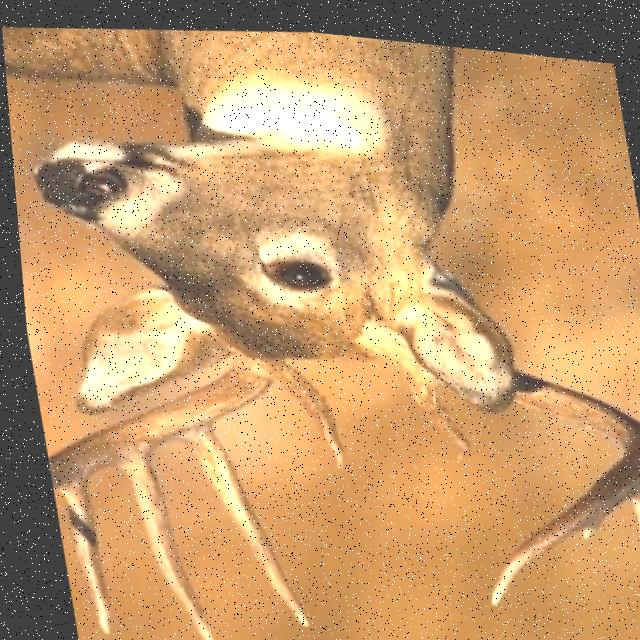L-G1: (269, 359, 339, 463)
L-G2: (177, 421, 302, 624)
L-G3: (110, 449, 207, 640)
L-G4: (51, 480, 101, 635)
R-G1: (399, 355, 464, 451)
